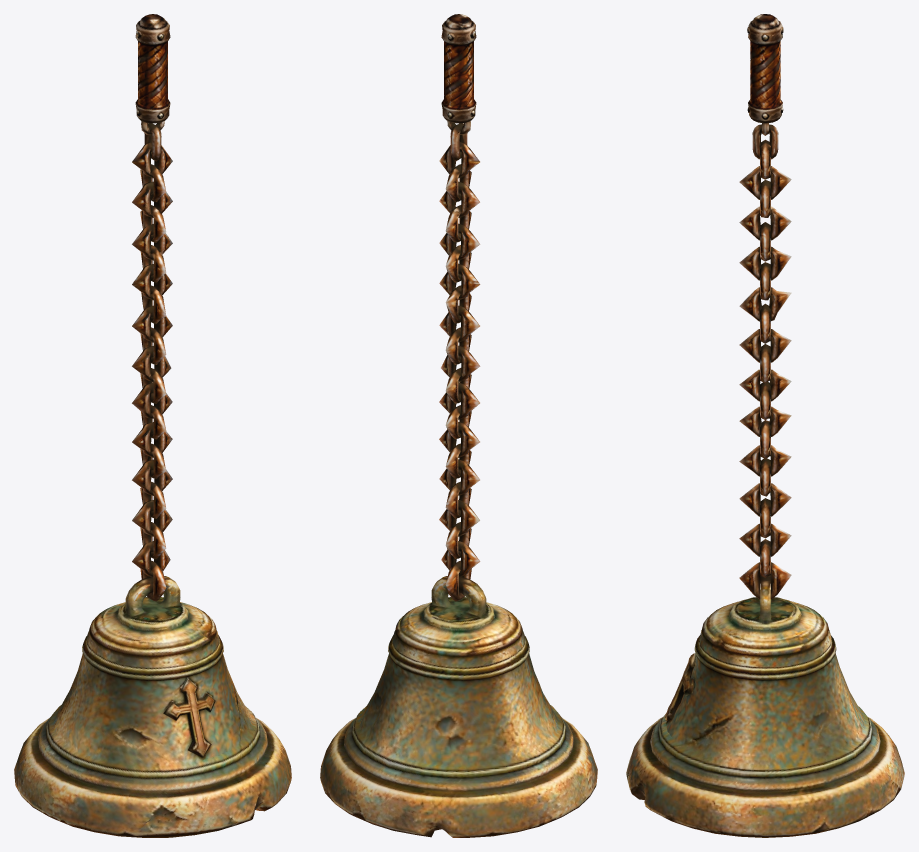
Rendered from medieval+bell+3d+model.glb.
The picture shows the model from 3 angles, left to right: view 1: azimuth 30°, elevation 25°; view 2: azimuth 150°, elevation 25°; view 3: azimuth 270°, elevation 25°; orthographic projection.
Visible parts, largest first — view 1: tripo_node_008fd99b-7fd2-43a0-abad-aa3f044f45d4; view 2: tripo_node_008fd99b-7fd2-43a0-abad-aa3f044f45d4; view 3: tripo_node_008fd99b-7fd2-43a0-abad-aa3f044f45d4.
Part boxes in pixels (x1=…): tripo_node_008fd99b-7fd2-43a0-abad-aa3f044f45d4: x1=14, y1=14, x2=291, y2=837; tripo_node_008fd99b-7fd2-43a0-abad-aa3f044f45d4: x1=320, y1=14, x2=597, y2=837; tripo_node_008fd99b-7fd2-43a0-abad-aa3f044f45d4: x1=626, y1=14, x2=904, y2=837.
Size of the model in its own units: 0.3286 by 0.9995 by 0.3286.
Materials: 1 (1 with a texture image).
